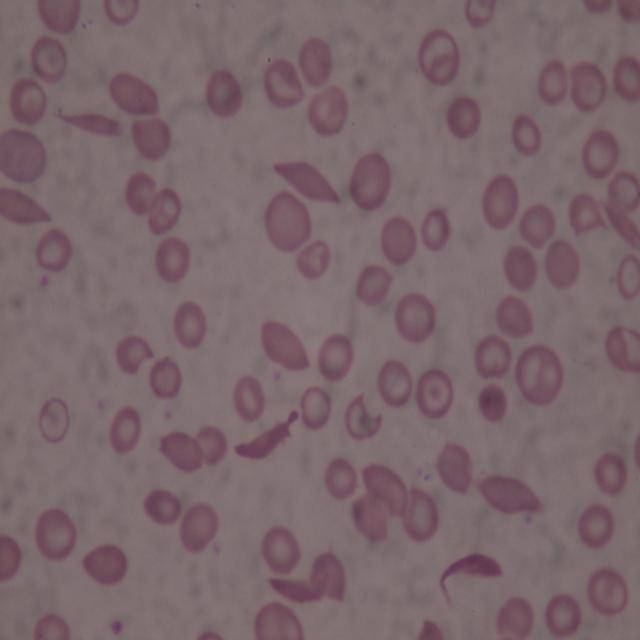Normal: (400, 484, 439, 541), (394, 290, 434, 342), (479, 172, 516, 228), (581, 129, 619, 181), (317, 332, 354, 383), (264, 528, 300, 573), (548, 591, 584, 636), (174, 300, 207, 349), (578, 502, 613, 548), (157, 237, 189, 283), (519, 206, 554, 248), (510, 112, 541, 158), (111, 406, 141, 453), (537, 58, 568, 102), (324, 457, 355, 499), (596, 453, 627, 495), (38, 612, 72, 638)
Others: (265, 191, 313, 253), (516, 346, 562, 404), (1, 127, 46, 182), (348, 152, 392, 208), (364, 464, 408, 520), (419, 30, 460, 89), (261, 320, 309, 370), (110, 69, 160, 115), (309, 82, 349, 136), (158, 429, 205, 474), (206, 67, 244, 119), (264, 59, 306, 106), (436, 442, 472, 496), (9, 74, 47, 125), (34, 512, 76, 558), (253, 603, 304, 640), (377, 359, 413, 411), (180, 502, 218, 551), (352, 496, 389, 546), (129, 116, 171, 160), (299, 34, 333, 88), (566, 188, 604, 236), (379, 215, 416, 264), (588, 569, 630, 612), (494, 596, 535, 640), (310, 551, 346, 601), (568, 62, 606, 109), (80, 546, 126, 584), (476, 333, 512, 380), (147, 188, 182, 236), (37, 228, 73, 274), (504, 243, 537, 293), (143, 489, 184, 529), (354, 265, 394, 305), (543, 243, 578, 287), (420, 207, 452, 255), (446, 94, 480, 139), (38, 396, 68, 444), (117, 332, 152, 373), (148, 357, 182, 399), (37, 0, 80, 33), (234, 375, 266, 419), (498, 297, 534, 336), (607, 326, 638, 371), (297, 387, 331, 427), (608, 174, 640, 216), (124, 173, 154, 216), (296, 242, 331, 278), (195, 426, 227, 464), (612, 59, 640, 102), (479, 382, 509, 420), (614, 252, 638, 299), (467, 0, 497, 30), (0, 536, 19, 579), (411, 615, 439, 640), (618, 2, 640, 25), (587, 0, 614, 16), (193, 628, 226, 640)
Sickle: (270, 158, 341, 206), (438, 556, 504, 604), (233, 410, 299, 457), (476, 473, 544, 515), (0, 185, 55, 226), (50, 110, 120, 140), (345, 390, 383, 442), (600, 200, 638, 247), (266, 576, 320, 604)
Target: (418, 368, 454, 420), (30, 34, 68, 82), (101, 0, 142, 26)
